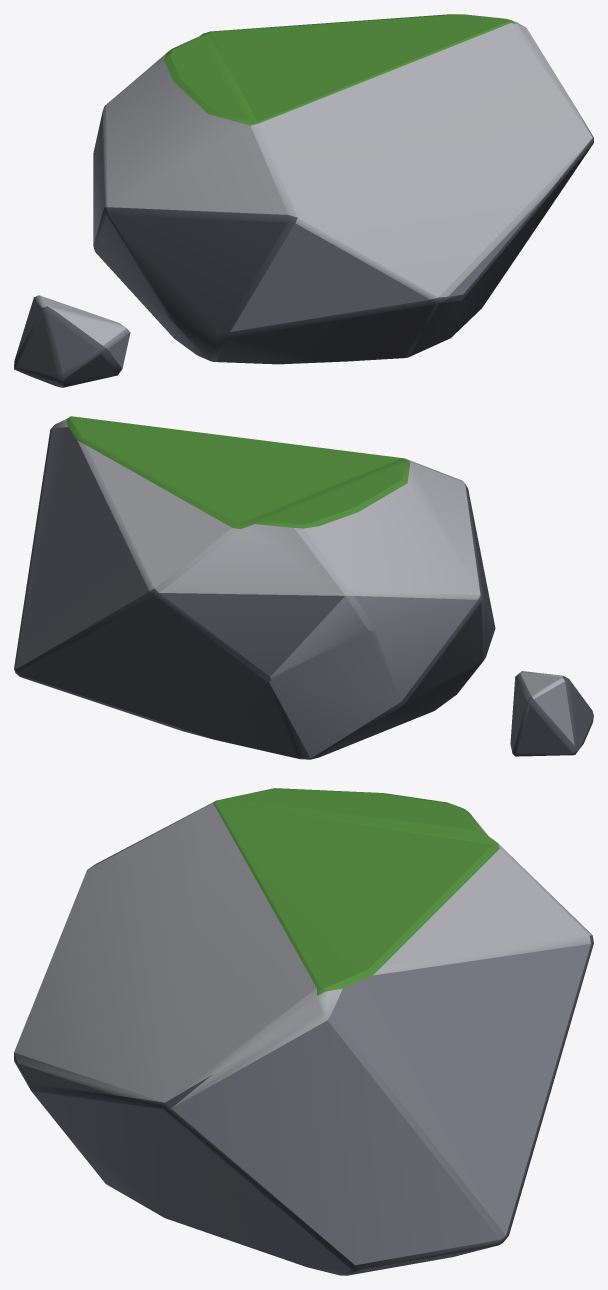
File: Boulder_20.glb
The picture shows the model from 3 angles, top to bottom: view 1: azimuth 30°, elevation 25°; view 2: azimuth 150°, elevation 25°; view 3: azimuth 270°, elevation 25°; orthographic projection. The views are drawn at different scales.
Parts seen in each view (by area): view 1: Boulder_20; view 2: Boulder_20; view 3: Boulder_20.
Part boxes in pixels (box(x1,y1,x2,y2)): Boulder_20: box(14, 14, 593, 387); Boulder_20: box(14, 416, 593, 759); Boulder_20: box(14, 788, 593, 1275).
Size of the model in its own units: 6.48 by 2.63 by 4.72.
